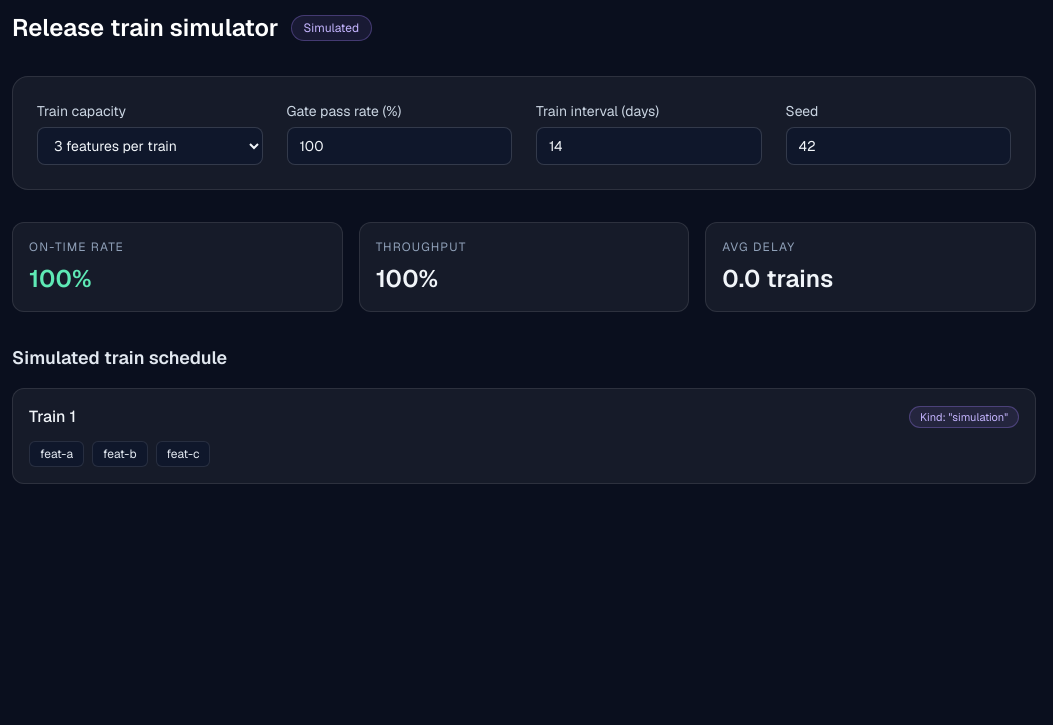
Test: SimulationPanel › positive scenarios › spreads features across trains when capacity drops
Expected: the heading "train 2" is not shown
Select "1 feature per train" in the dropdown labelled "Train capacity": (150, 146) [37, 127, 262, 165]
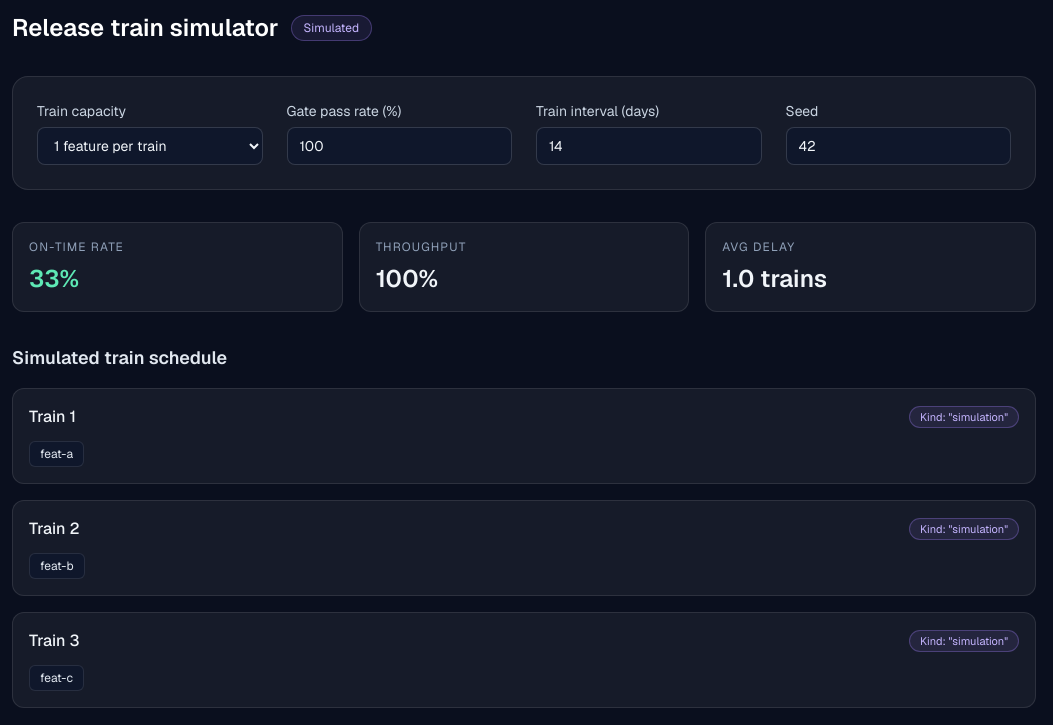
Expected: the heading "Train 1" is shown, [29, 405, 76, 429]
Expected: the heading "Train 2" is shown, [29, 517, 80, 541]
Expected: the heading "Train 3" is shown, [29, 629, 80, 653]
